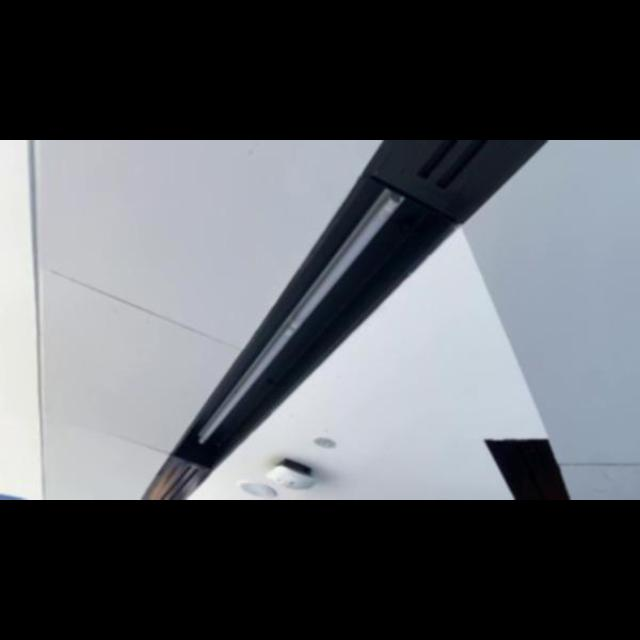Straight-Tube-Fluorescent-Lamp: (185, 186, 412, 452)
